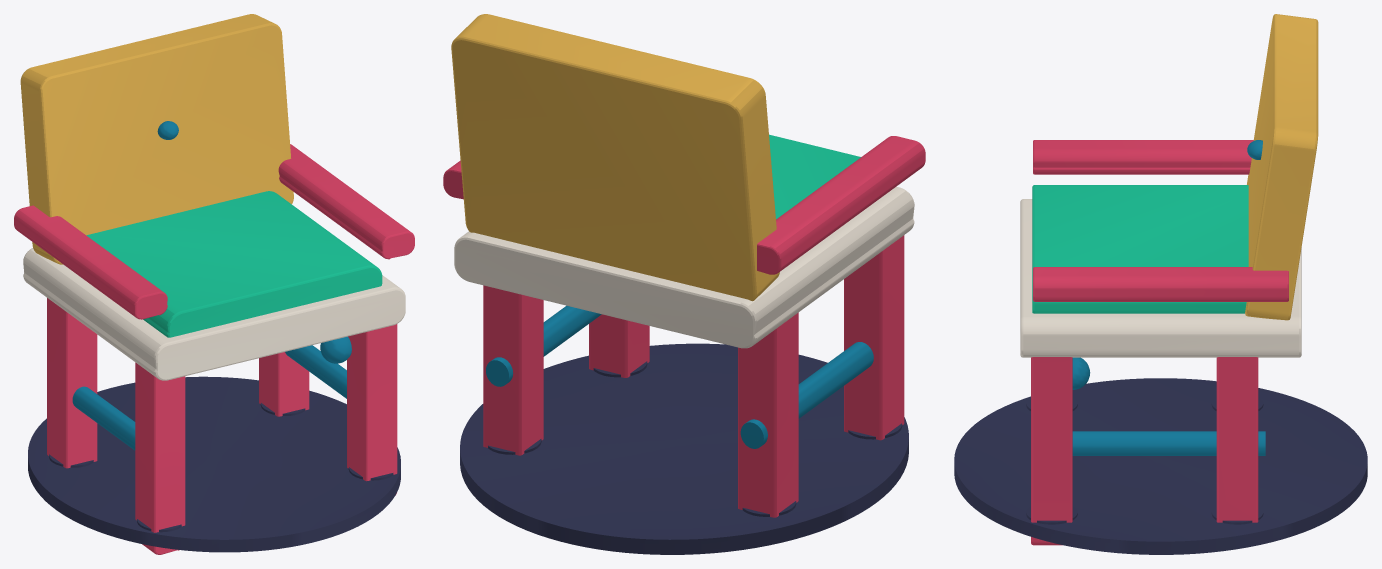
File: 1358_城市运转图鉴_应急避难场所.glb
The picture shows the model from 3 angles, left to right: view 1: azimuth 30°, elevation 25°; view 2: azimuth 150°, elevation 25°; view 3: azimuth 270°, elevation 25°; orthographic projection. The views are drawn at different scales.
Parts seen in each view (by area): view 1: card_1358; view 2: card_1358; view 3: card_1358.
Boxes of the visible parts, box(x1,y1,x2,y2) form: card_1358: box(14, 14, 414, 554); card_1358: box(443, 14, 925, 554); card_1358: box(954, 14, 1367, 554).
Size of the model in its own units: 0.8467 by 1 by 0.9049.
